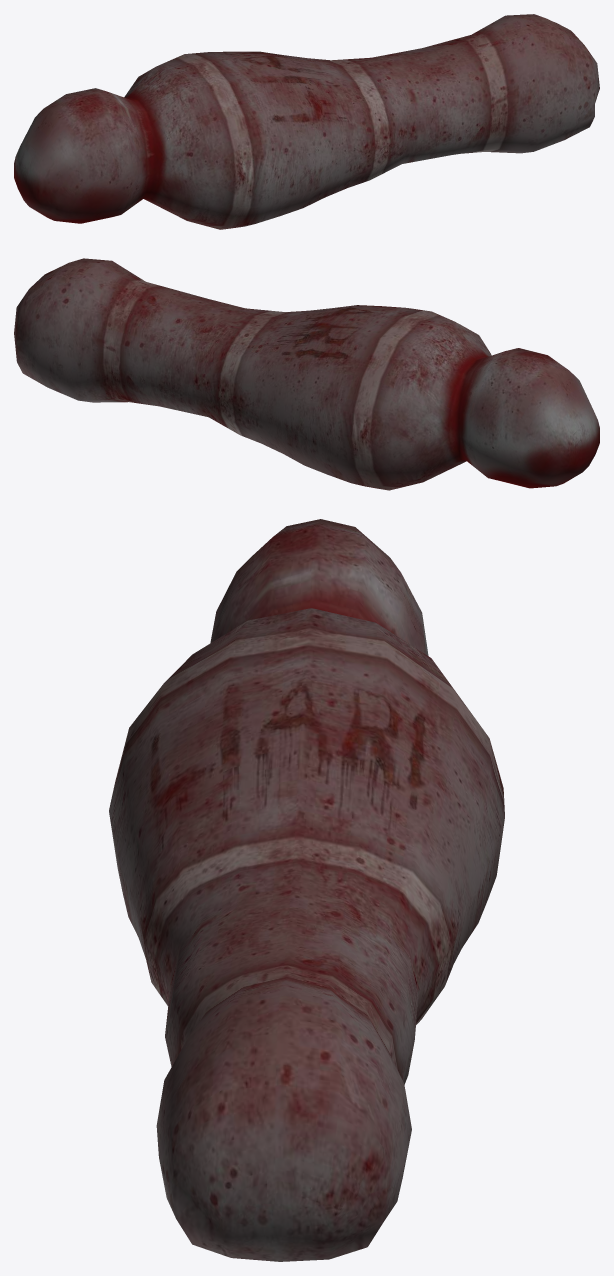
File: Dead Body Taped.fbx
3 views of the same model, one above another, from view 1: azimuth 30°, elevation 25°; view 2: azimuth 150°, elevation 25°; view 3: azimuth 270°, elevation 25° (orthographic). The views are drawn at different scales.
Visible parts, largest first — view 1: defaultMaterial; view 2: defaultMaterial; view 3: defaultMaterial.
Boxes of the visible parts, left/top/right/bottom form: defaultMaterial: left=14, top=14, right=599, bottom=229; defaultMaterial: left=14, top=258, right=599, bottom=490; defaultMaterial: left=109, top=519, right=504, bottom=1261.
Bounding box in the file's own units: 148 × 40.29 × 45.82.
1 material, 1 textured.
